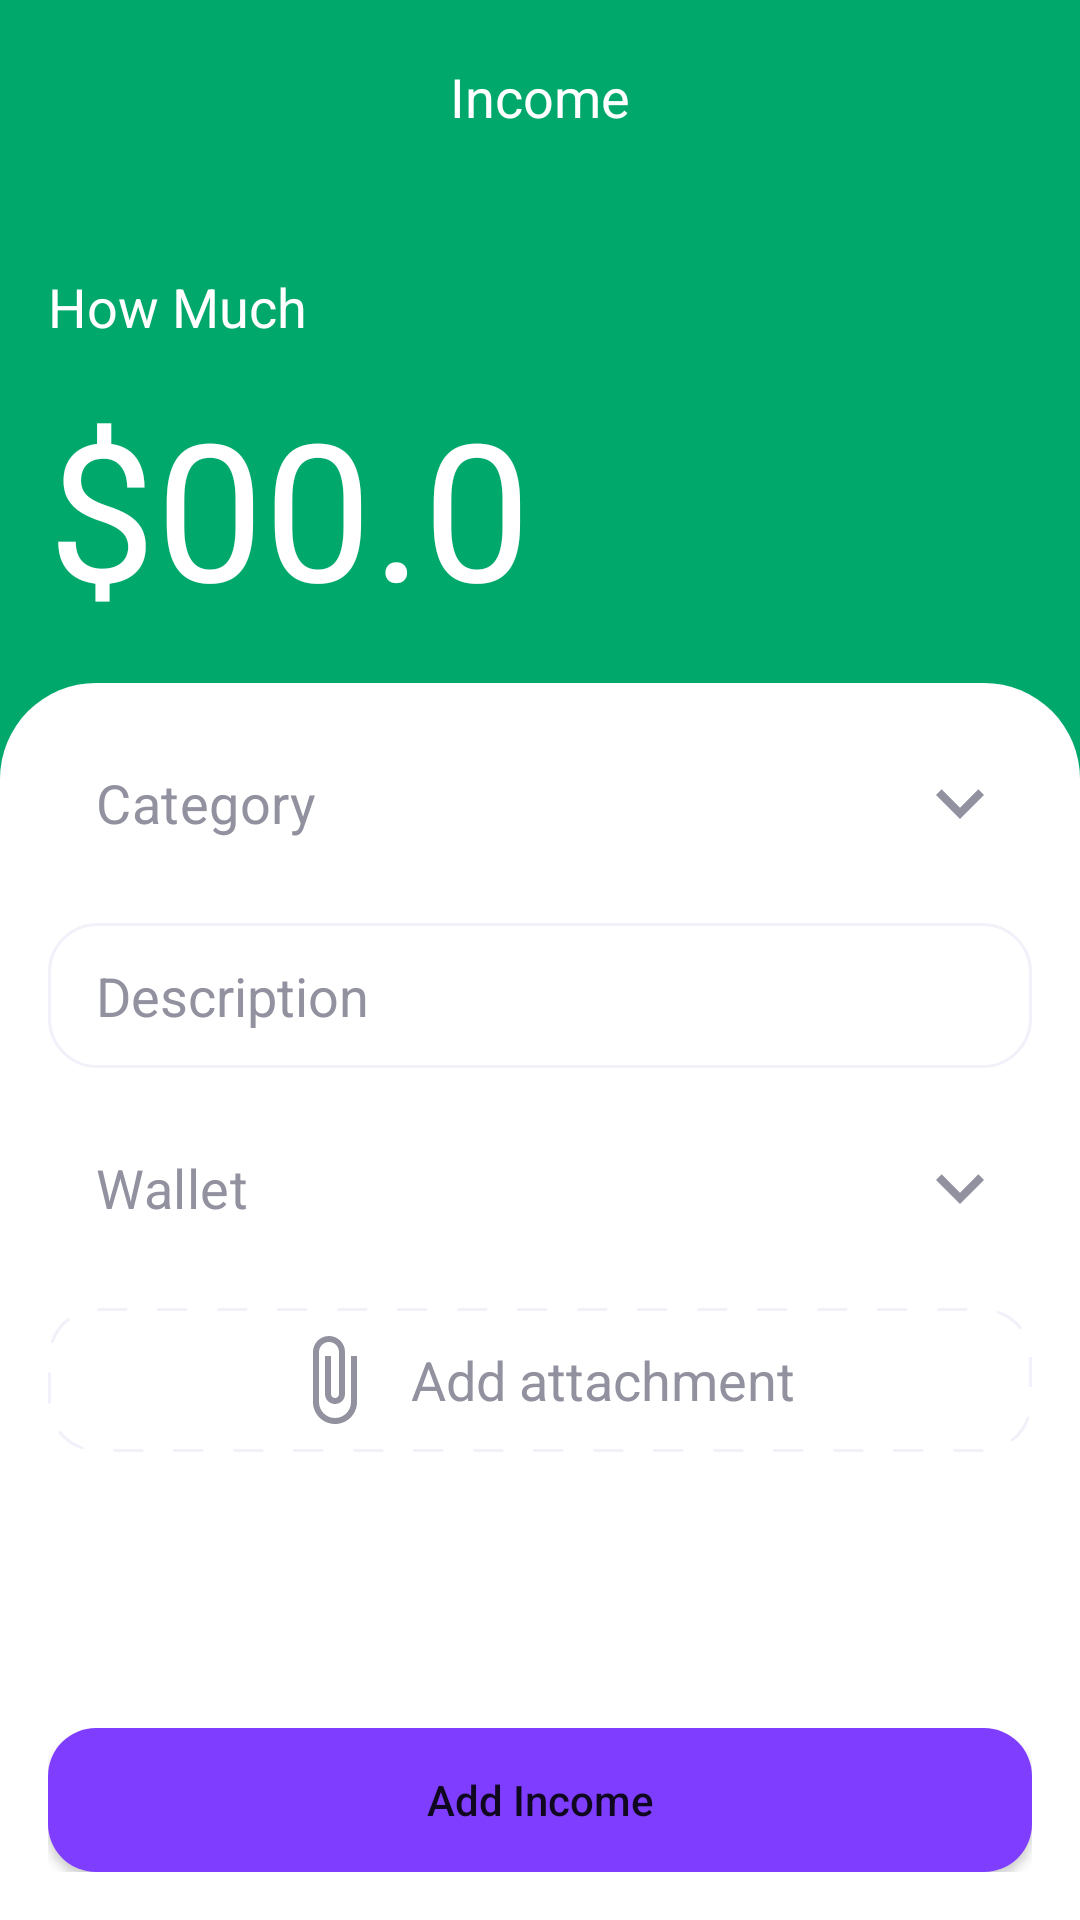

Where to tap for icons on this 1080w x 1920h app screen, as [x,y]:
attach file: [335,1380]
